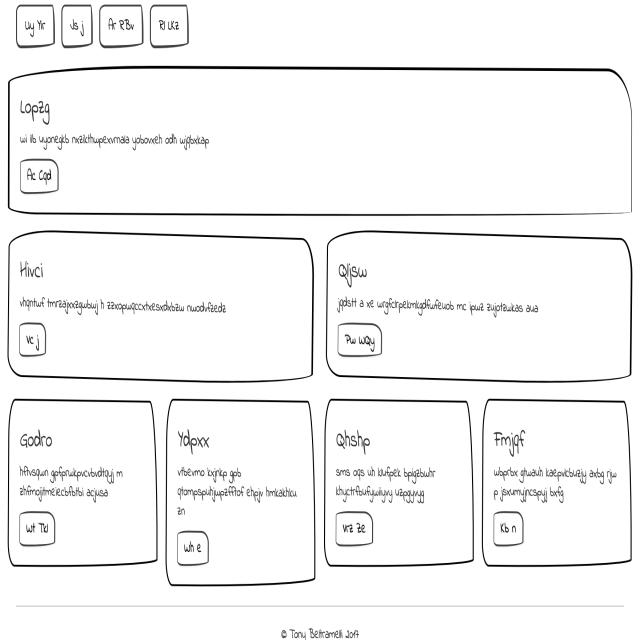Button: (335, 320, 384, 362), (15, 507, 58, 550), (332, 506, 374, 550), (491, 506, 526, 551), (174, 527, 212, 567), (19, 159, 59, 192), (16, 321, 48, 358)
Card: (7, 63, 640, 219), (6, 226, 316, 387), (326, 224, 632, 384), (164, 392, 318, 590), (323, 389, 477, 569), (479, 398, 634, 568), (8, 395, 158, 568)
Footer: (0, 600, 640, 640)
Heading 6: (335, 428, 379, 460), (337, 258, 376, 294), (174, 424, 213, 458), (17, 97, 55, 130), (490, 427, 529, 458), (18, 422, 53, 454), (16, 255, 48, 285)
Navigation Bar: (16, 0, 191, 47)
Paragraph: (172, 459, 304, 520), (18, 294, 234, 319), (493, 465, 620, 505), (332, 294, 546, 317), (335, 460, 445, 504), (19, 130, 218, 153), (17, 464, 126, 502)
